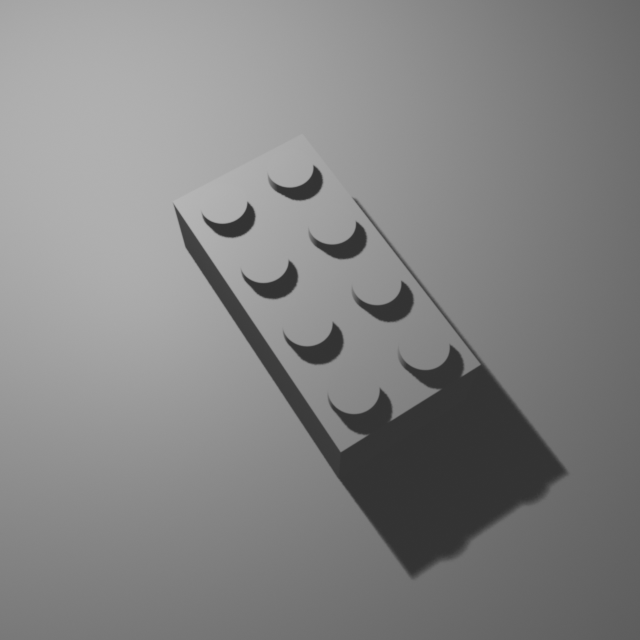lego_2x4: (170, 125, 484, 479)
